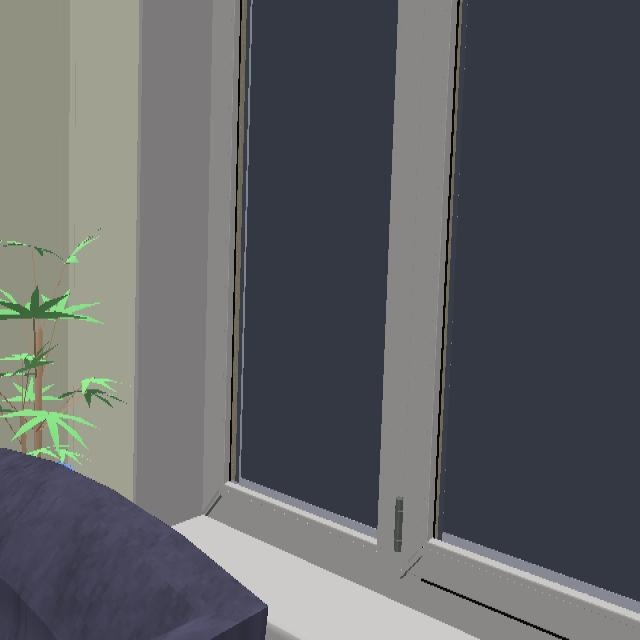sofa: (0, 449, 268, 640)
